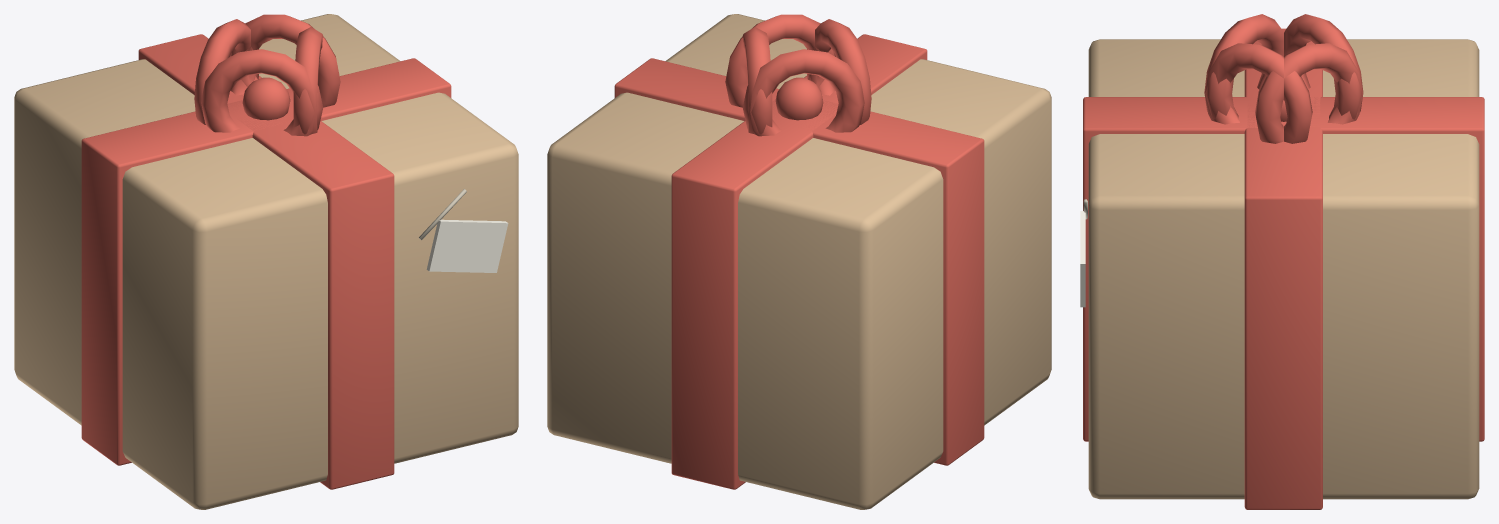
Rendered from Parcel.glb.
The picture shows the model from 3 angles, left to right: view 1: azimuth 30°, elevation 25°; view 2: azimuth 150°, elevation 25°; view 3: azimuth 270°, elevation 25°; orthographic projection. The views are drawn at different scales.
Parts seen in each view (by area): view 1: Parcel; view 2: Parcel; view 3: Parcel.
Boxes of the visible parts, x1,y1,x2,y2 form: Parcel: (14, 14, 518, 509); Parcel: (547, 14, 1051, 509); Parcel: (1080, 14, 1484, 509).
Size of the model in its own units: 1.44 by 1.57 by 1.45.
